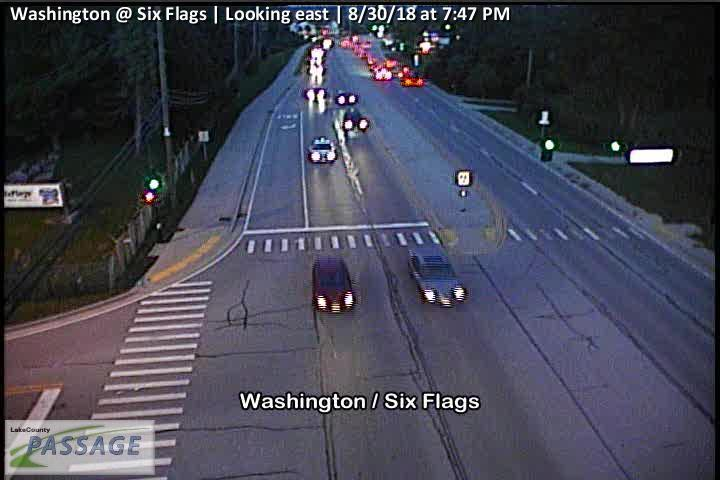Sedan: (404, 243, 466, 311), (309, 254, 356, 317), (306, 136, 338, 165), (339, 108, 371, 136), (399, 72, 426, 88), (336, 90, 361, 106), (303, 86, 327, 101), (305, 63, 326, 76), (373, 69, 392, 80)
